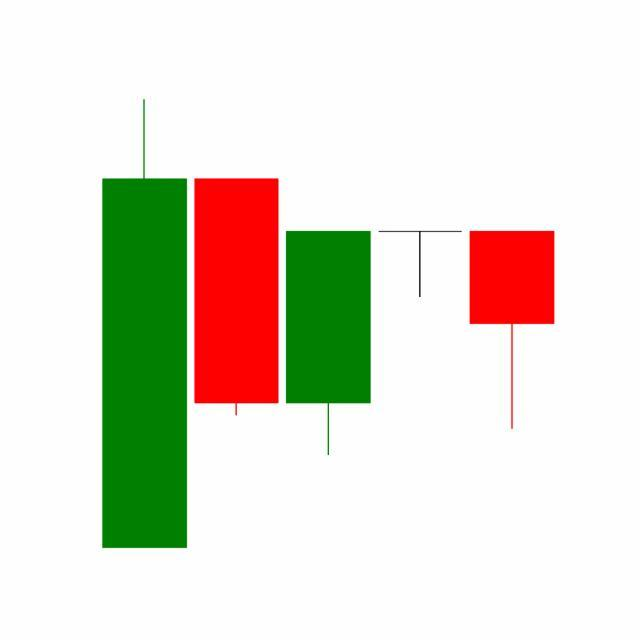Hanging Man: (374, 230, 468, 299)
